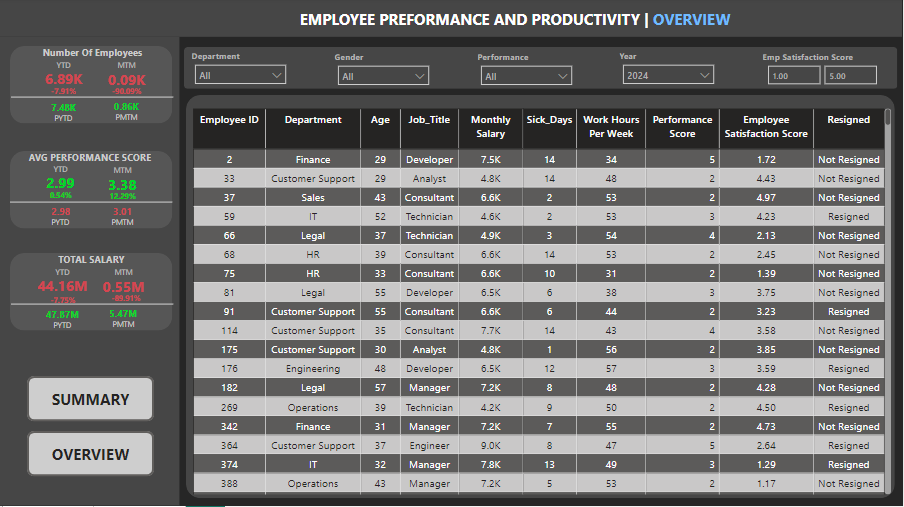

The dashboard page shown, as its layout file describes it:
{"tool":"powerbi","page":{"name":"Overview","canvas":[1280,720],"ordinal":1},"visuals":[{"type":"shape","box":[0,0,1279.8,55],"z":0},{"type":"actionButton","title":"SUMMARY","box":[39.3,536.3,180.2,64.4],"z":0,"group":"g4"},{"type":"shape","box":[0,55.7,255.7,664.3],"z":1000},{"type":"actionButton","title":"SUMMARY","box":[39.3,615,180.2,64.4],"z":1000,"group":"g4"},{"type":"shape","box":[262.8,69.4,1011.1,59.4],"z":2000},{"type":"shape","box":[264.9,136.9,1004.7,571.5],"z":3000},{"type":"textbox","box":[387.6,10,689.3,38.6],"z":4000},{"type":"slicer","title":"Department","fields":{"Values":["Company Employees Data.Department"]},"box":[268.2,73.9,148.8,51.2],"z":5000},{"type":"shape","box":[14.9,68,230,110],"z":6000,"group":"g1"},{"type":"slicer","title":"Gender","fields":{"Values":["Company Employees Data.Gender"]},"box":[470.5,74.5,148.7,50.1],"z":6000},{"type":"shape","box":[15.6,216.5,230,110],"z":6000,"group":"g2"},{"type":"shape","box":[15.7,361.2,230,110],"z":6000,"group":"g3"},{"type":"slicer","title":"Performance","fields":{"Values":["Company Employees Data.Performance_Score"]},"box":[672.6,74.5,148.7,50.1],"z":7000},{"type":"slicer","title":"Year","fields":{"Values":["Hire Date.Year"]},"box":[874.8,73.8,148.7,51.5],"z":8000},{"type":"slicer","title":"Emp Satisfaction Score","fields":{"Values":["Company Employees Data.Employee_Satisfaction_Score"]},"box":[1076.9,75.8,178.8,60.1],"z":9000},{"type":"group","id":"g1","title":"Group 3","box":[14.9,64,231.6,121.2],"z":10000},{"type":"group","id":"g2","title":"Group 3","box":[15.6,212.8,230.2,120.9],"z":11000},{"type":"group","id":"g3","title":"Group 3","box":[15.7,357.2,230.8,121.2],"z":12000},{"type":"tableEx","fields":{"Values":["Company Employees Data.Employee_ID","Company Employees Data.Department","Company Employees Data.Age","Company Employees Data.Job_Title","Company Employees Data.Monthly_Salary","Company Employees Data.Sick_Days","Company Employees Data.Work_Hours_Per_Week","Company Employees Data.Performance_Score","Company Employees Data.Employee_Satisfaction_Score","Company Employees Data.Resigned"]},"box":[269.4,151.8,1000.2,556.7],"z":13000},{"type":"group","id":"g4","title":"Group 4","box":[39.3,536.3,180.2,143],"z":13001},{"type":"card","title":"YTD","fields":{"Values":["Company Employees Data.YTD No. of emp"]},"box":[45.4,87.6,89.1,42.3],"z":15000,"group":"g5"},{"type":"card","title":"YTD","fields":{"Values":["Company Employees Data.YTD Avg Performance Rating"]},"box":[42.9,236.1,89.1,42.3],"z":15000,"group":"g6"},{"type":"card","title":"YTD","fields":{"Values":["Company Employees Data.YTD Avg  Salary"]},"box":[45.3,380.7,89,42],"z":15000,"group":"g7"},{"type":"textbox","box":[49.9,64,162.7,29.1],"z":26000,"group":"g1"},{"type":"textbox","box":[26,212.8,206.9,29.8],"z":26000,"group":"g2"},{"type":"textbox","box":[50,357.2,162.7,29.1],"z":26000,"group":"g3"},{"type":"shape","box":[16.5,134.8,230,11.7],"z":27000,"group":"g1"},{"type":"card","title":"PYTD","fields":{"Values":["Company Employees Data.PYTD No.of Emp"]},"box":[54.9,142.6,70,26.4],"z":27000,"group":"g5"},{"type":"shape","box":[15.8,283.3,230,11.7],"z":27000,"group":"g2"},{"type":"card","title":"PYTD","fields":{"Values":["Company Employees Data.PYTD Avg Performance Rating"]},"box":[52.4,291.1,70,26.4],"z":27000,"group":"g6"},{"type":"shape","box":[16.5,428,230,11.7],"z":27000,"group":"g3"},{"type":"card","title":"PYTD","fields":{"Values":["Company Employees Data.PYTD Avg Salary"]},"box":[54.8,435.8,70,26.4],"z":27000,"group":"g7"},{"type":"group","id":"g5","title":"Group 1","box":[45.4,87.6,89.1,97.6],"z":28000,"group":"g1"},{"type":"card","title":"PYTD No.of Emp","fields":{"Values":["Company Employees Data.Emp Percengate"]},"box":[57.2,118.1,65.6,30.6],"z":28000,"group":"g5"},{"type":"group","id":"g6","title":"Group 1","box":[42.9,236.1,89.1,97.6],"z":28000,"group":"g2"},{"type":"card","title":"PYTD No.of Emp","fields":{"Values":["Company Employees Data.AVg Performance %"]},"box":[62.7,270.2,49.5,26.8],"z":28000,"group":"g6"},{"type":"group","id":"g7","title":"Group 1","box":[45.3,380.7,89,97.7],"z":28000,"group":"g3"},{"type":"card","title":"PYTD No.of Emp","fields":{"Values":["Company Employees Data.Salary Diff %"]},"box":[59.3,415.7,61,26],"z":28000,"group":"g7"},{"type":"group","id":"g8","title":"Group 2","box":[140.1,88.7,80,95.5],"z":29000,"group":"g1"},{"type":"group","id":"g9","title":"Group 2","box":[136.6,237.2,77.7,95.5],"z":29000,"group":"g2"},{"type":"group","id":"g10","title":"Group 2","box":[137.4,381.9,77.7,95.5],"z":29000,"group":"g3"},{"type":"card","title":"MTM","fields":{"Values":["Company Employees Data.MTM No of EMp"]},"box":[141.2,88.7,77.7,44.1],"z":30000,"group":"g8"},{"type":"card","title":"MTM","fields":{"Values":["Company Employees Data.MTM Avg Performance"]},"box":[136.6,237.2,77.7,44.1],"z":30000,"group":"g9"},{"type":"card","title":"MTM","fields":{"Values":["Company Employees Data.MTM Salary"]},"box":[137.4,381.9,77.7,44.1],"z":30000,"group":"g10"},{"type":"card","title":"PMTM","fields":{"Values":["Company Employees Data.PMTM Emp"]},"box":[148.3,142.3,63.6,26.4],"z":31000,"group":"g8"},{"type":"card","title":"PMTM","fields":{"Values":["Company Employees Data.PMTM Avg Performance"]},"box":[143.6,290.8,63.6,26.4],"z":31000,"group":"g9"},{"type":"card","title":"PMTM","fields":{"Values":["Company Employees Data.PMTM Salary"]},"box":[144.4,435.5,63.6,26.4],"z":31000,"group":"g10"},{"type":"textbox","box":[65.5,155.8,48.8,29.4],"z":32000,"group":"g5"},{"type":"textbox","box":[63,304.3,48.8,29.4],"z":32000,"group":"g6"},{"type":"textbox","box":[65.4,449,48.8,29.4],"z":32000,"group":"g7"},{"type":"textbox","box":[155.6,155.5,49.1,28.6],"z":34000,"group":"g8"},{"type":"textbox","box":[150.9,304,49.1,28.6],"z":34000,"group":"g9"},{"type":"textbox","box":[151.7,448.7,49.1,28.6],"z":34000,"group":"g10"},{"type":"card","title":"PYTD No.of Emp","fields":{"Values":["Company Employees Data.MTM Emp %"]},"box":[140.1,121.3,80,28.4],"z":35000,"group":"g8"},{"type":"card","title":"PYTD No.of Emp","fields":{"Values":["Company Employees Data.MTM Performance %"]},"box":[150.7,271.4,49.6,27.1],"z":35000,"group":"g9"},{"type":"card","title":"PYTD No.of Emp","fields":{"Values":["Company Employees Data.MTM Salary %"]},"box":[151.4,413.4,55.7,30],"z":35000,"group":"g10"}]}

Visuals, with their boxes in screenshot pixels (x1, y1, x2, y2), scaled from the page's 1280x720 canvas onto the 904x507 screenshot:
shape: [0,0,903,39]
"SUMMARY" actionButton: [28,378,155,423]
shape: [0,39,181,506]
"SUMMARY" actionButton: [28,433,155,478]
shape: [186,49,900,91]
shape: [187,96,897,499]
textbox: [274,7,761,34]
"Department" slicer: [189,52,295,88]
shape: [11,48,173,125]
"Gender" slicer: [332,52,437,88]
shape: [11,152,173,230]
shape: [11,254,174,332]
"Performance" slicer: [475,52,580,88]
"Year" slicer: [618,52,723,88]
"Emp Satisfaction Score" slicer: [761,53,887,96]
"Group 3" group: [11,45,174,130]
"Group 3" group: [11,150,174,235]
"Group 3" group: [11,252,174,337]
tableEx - Company Employees Data.Employee_ID x Company Employees Data.Department: [190,107,897,499]
"Group 4" group: [28,378,155,478]
"YTD" card: [32,62,95,91]
"YTD" card: [30,166,93,196]
"YTD" card: [32,268,95,298]
textbox: [35,45,150,66]
textbox: [18,150,164,171]
textbox: [35,252,150,272]
shape: [12,95,174,103]
"PYTD" card: [39,100,88,119]
shape: [11,199,174,208]
"PYTD" card: [37,205,86,224]
shape: [12,301,174,310]
"PYTD" card: [39,307,88,325]
"Group 1" group: [32,62,95,130]
"PYTD No.of Emp" card: [40,83,87,105]
"Group 1" group: [30,166,93,235]
"PYTD No.of Emp" card: [44,190,79,209]
"Group 1" group: [32,268,95,337]
"PYTD No.of Emp" card: [42,293,85,311]
"Group 2" group: [99,62,155,130]
"Group 2" group: [96,167,151,234]
"Group 2" group: [97,269,152,336]
"MTM" card: [100,62,155,94]
"MTM" card: [96,167,151,198]
"MTM" card: [97,269,152,300]
"PMTM" card: [105,100,150,119]
"PMTM" card: [101,205,146,223]
"PMTM" card: [102,307,147,325]
textbox: [46,110,81,130]
textbox: [44,214,79,235]
textbox: [46,316,81,337]
textbox: [110,109,145,130]
textbox: [107,214,141,234]
textbox: [107,316,142,336]
"PYTD No.of Emp" card: [99,85,155,105]
"PYTD No.of Emp" card: [106,191,141,210]
"PYTD No.of Emp" card: [107,291,146,312]
